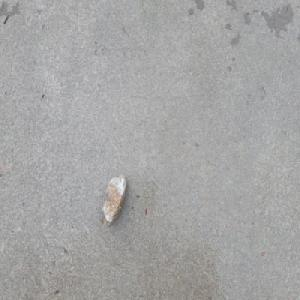Rock: (102, 173, 129, 228)
